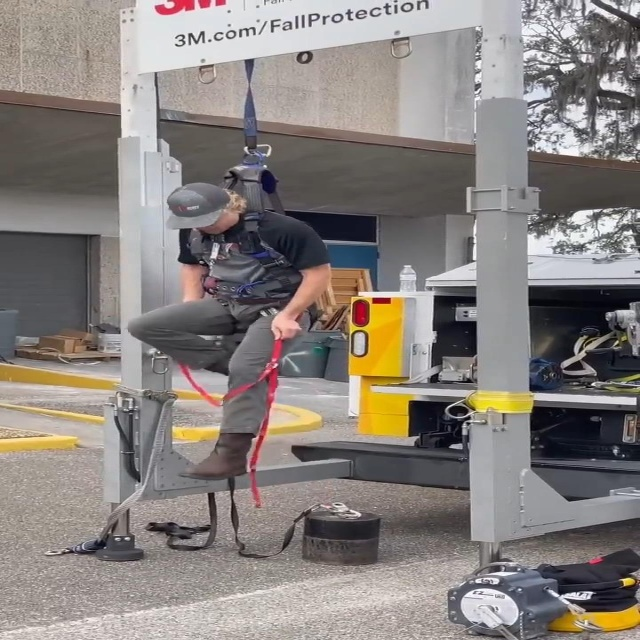Arnes_seguridad: (168, 158, 322, 325)
